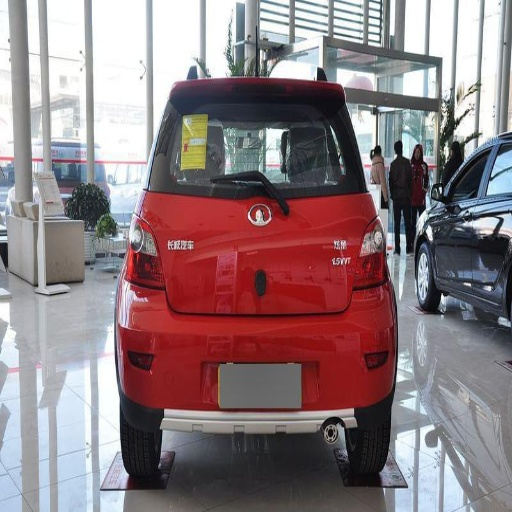back_bumper: (121, 277, 393, 432)
trunk: (144, 196, 370, 315)
